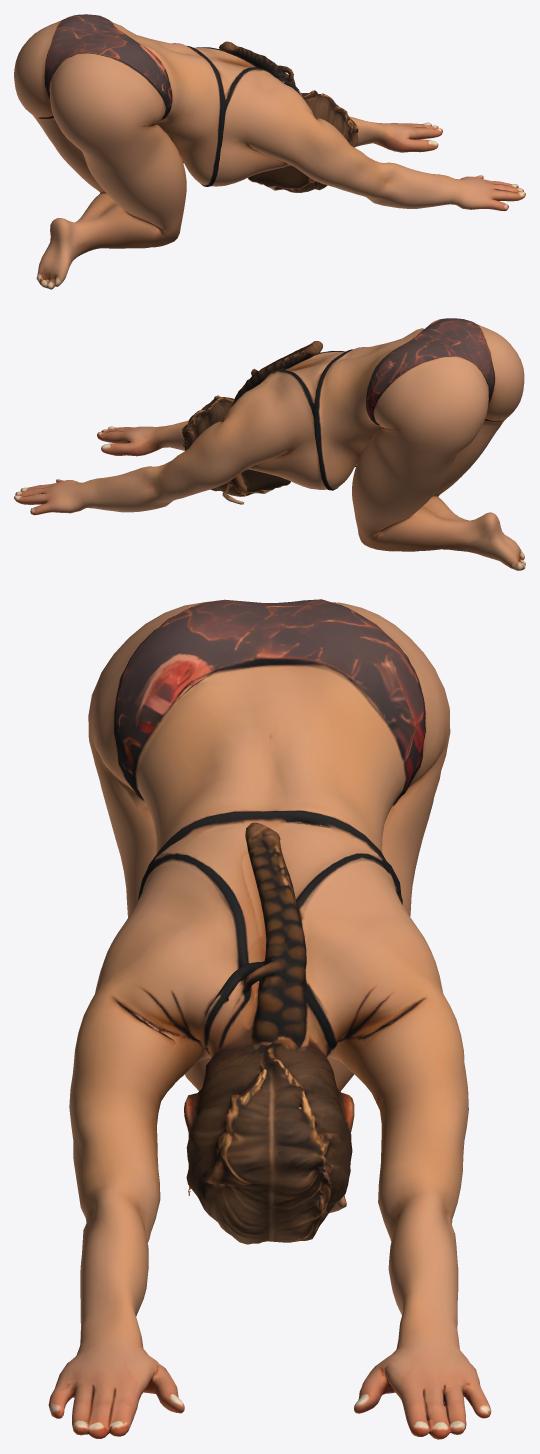
Rendered from female_yoga_fold.glb.
3 renders of one model, top to bottom at view 1: azimuth 30°, elevation 25°; view 2: azimuth 150°, elevation 25°; view 3: azimuth 270°, elevation 25°, orthographic. The views are drawn at different scales.
Parts seen in each view (by area): view 1: tripo_node_f48ae2a0-b3d9-416f-95f5-8cc4b767924c; view 2: tripo_node_f48ae2a0-b3d9-416f-95f5-8cc4b767924c; view 3: tripo_node_f48ae2a0-b3d9-416f-95f5-8cc4b767924c.
Part boxes in pixels (x1,y1,x2,y2): tripo_node_f48ae2a0-b3d9-416f-95f5-8cc4b767924c: (14, 14, 525, 289); tripo_node_f48ae2a0-b3d9-416f-95f5-8cc4b767924c: (14, 318, 525, 570); tripo_node_f48ae2a0-b3d9-416f-95f5-8cc4b767924c: (48, 599, 491, 1439).
Bounding box in the file's own units: 1.36 × 0.6539 × 0.5737.
1 material, 1 textured.
